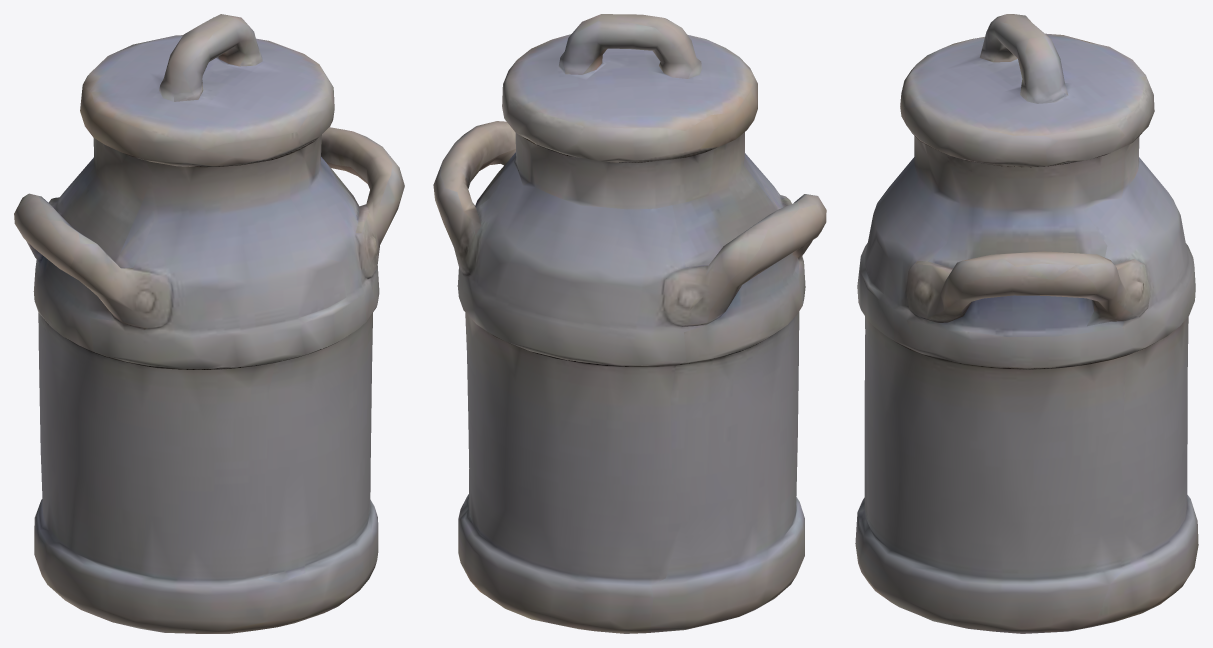
Rendered from milk_can.glb.
3 renders of one model, left to right at view 1: azimuth 30°, elevation 25°; view 2: azimuth 150°, elevation 25°; view 3: azimuth 270°, elevation 25°, orthographic.
Visible parts, largest first — view 1: textured_mesh.obj; view 2: textured_mesh.obj; view 3: textured_mesh.obj.
Boxes of the visible parts, x1,y1,x2,y2 form: textured_mesh.obj: [14, 14, 404, 633]; textured_mesh.obj: [433, 14, 826, 633]; textured_mesh.obj: [855, 14, 1198, 633].
Size of what is drawn, in the model's own units: 0.5373 by 0.8 by 0.4575.
Materials: 1 (1 with a texture image).
